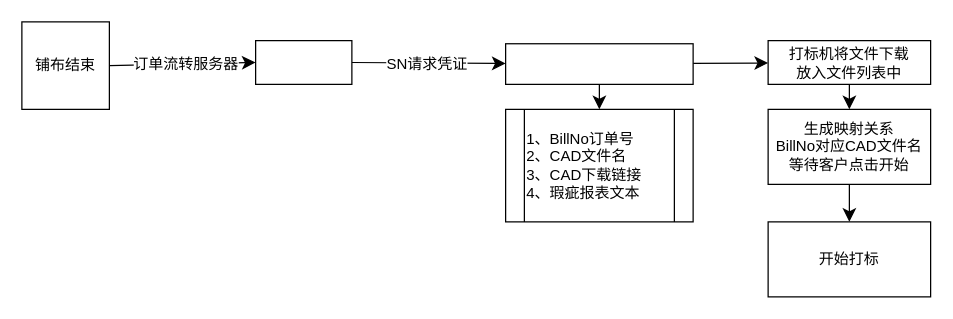
This 953x319 diagram has some shape labels left out. The centre of each missing label's shape, as x and y in pixels:
打标机: the point at 303,61
服务器返回订单数据包: the point at 598,63
